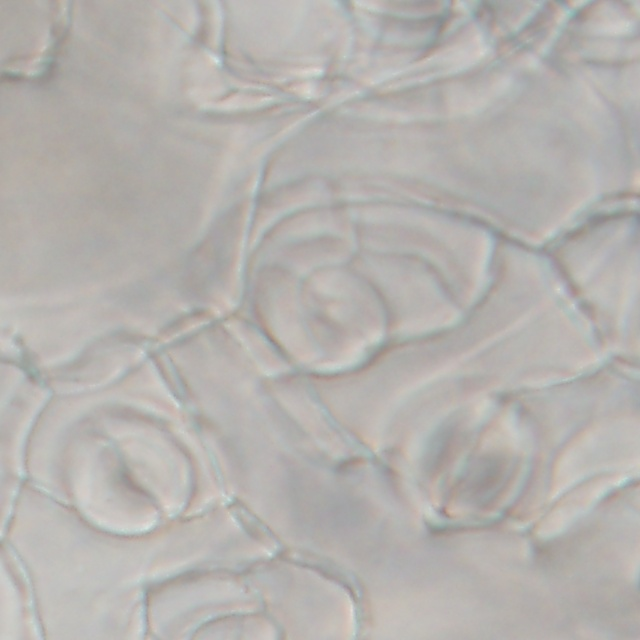center: (436, 423, 490, 489), (117, 452, 156, 496), (209, 624, 256, 628)
stomata-huw1: (386, 377, 536, 529), (64, 408, 194, 536), (180, 613, 285, 639)
